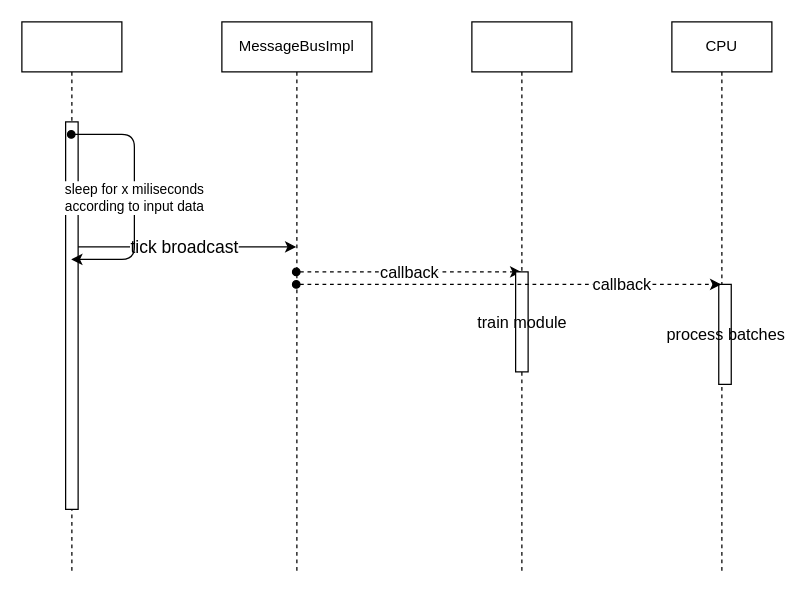
This 806x594 diagram has some shape labels left out. Here are the shapes that lost their labels. From the top down, the box of each, then its label:
(21, 21, 122, 572): TimeService
(471, 21, 572, 572): GPU
